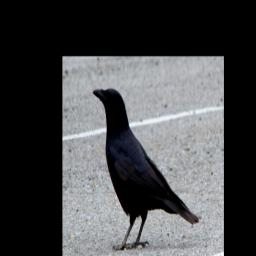Crow: (92, 88, 200, 251)
